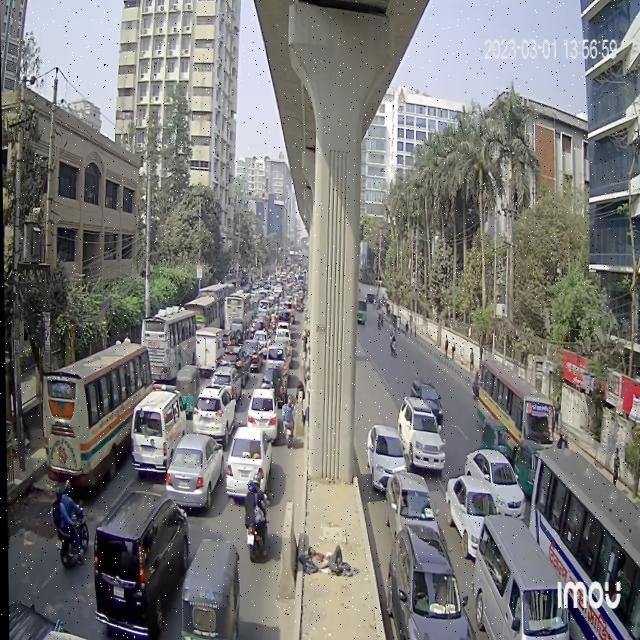cng: (510, 428, 547, 500), (476, 407, 509, 467), (171, 362, 201, 418)
